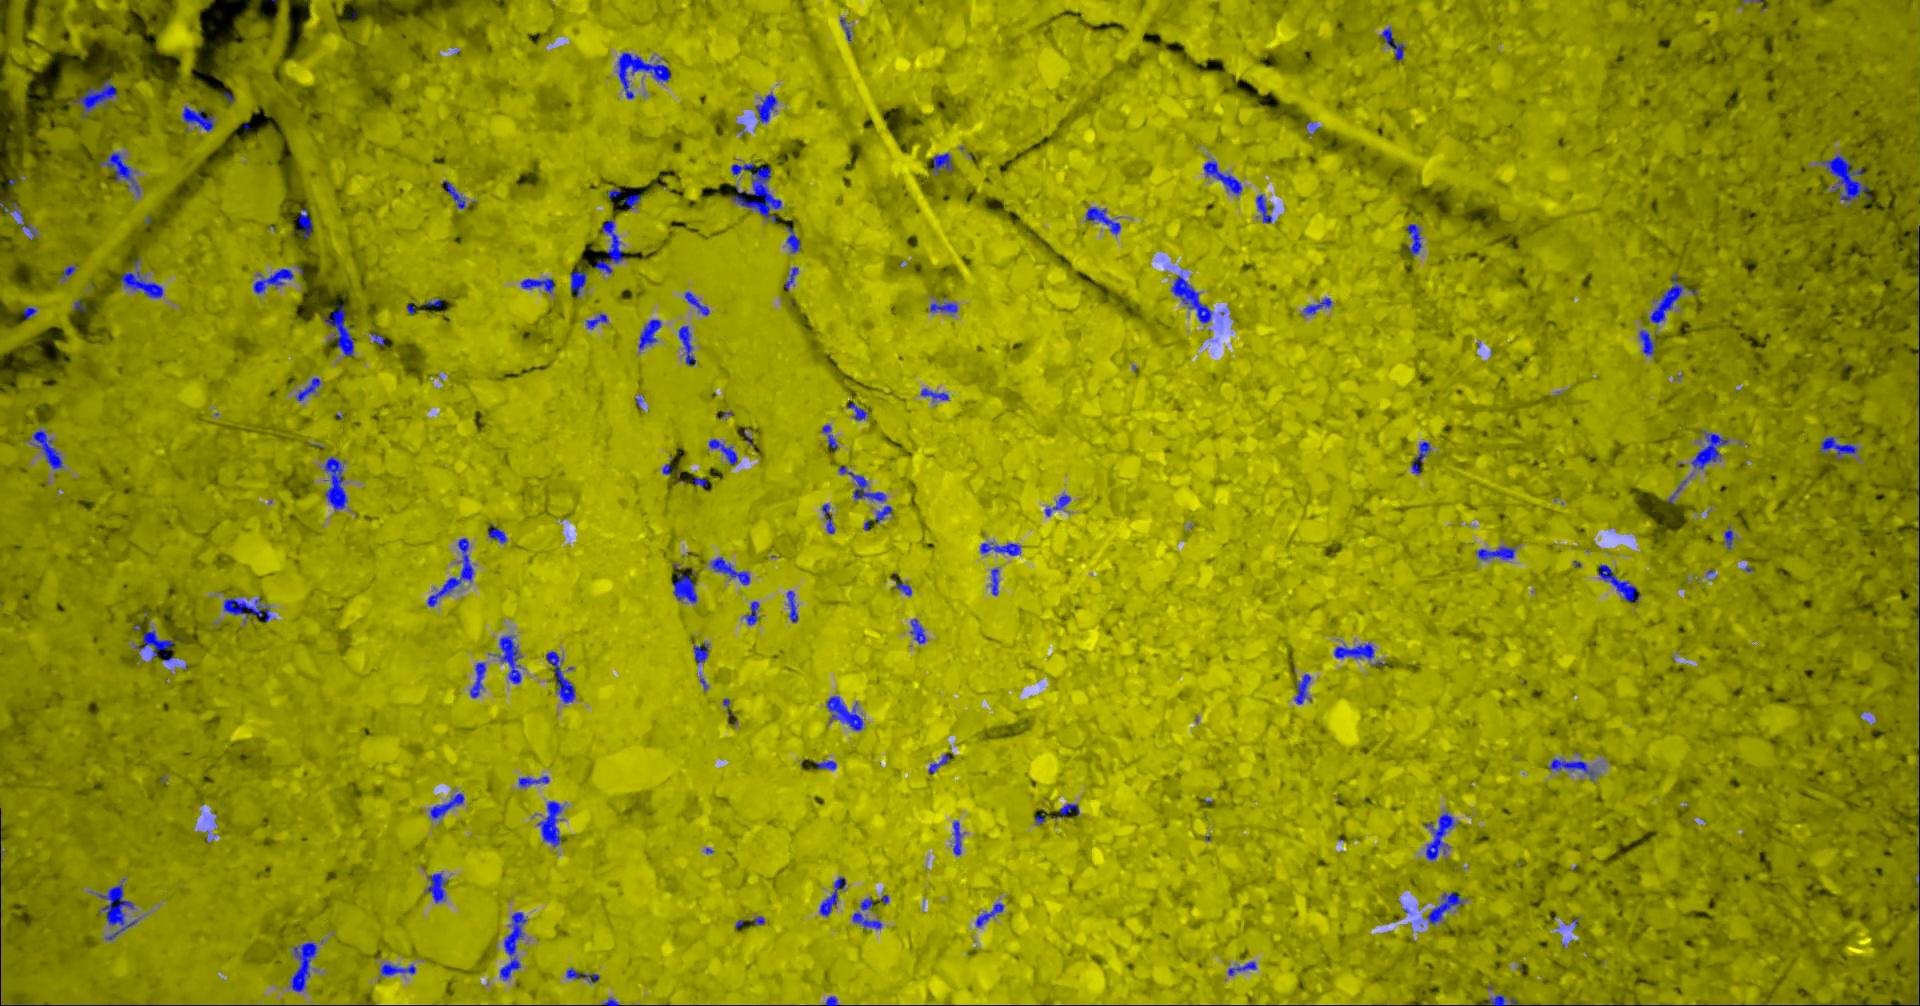ant: (425, 537, 472, 606), (616, 52, 670, 98), (1820, 154, 1870, 201), (97, 882, 137, 940), (1171, 274, 1211, 323), (1647, 274, 1684, 324), (499, 911, 524, 981), (98, 152, 138, 196), (71, 79, 116, 118), (838, 465, 885, 500), (1597, 563, 1639, 602), (594, 217, 623, 273), (323, 304, 353, 354), (545, 652, 574, 702), (1423, 812, 1454, 860), (1691, 431, 1728, 467), (290, 941, 316, 991), (323, 456, 347, 511), (825, 695, 862, 730), (1203, 161, 1241, 194), (1427, 890, 1464, 923), (30, 431, 62, 469), (135, 630, 174, 661), (223, 597, 270, 622), (537, 800, 563, 846), (119, 271, 163, 297), (498, 634, 521, 683), (710, 558, 749, 584), (253, 268, 293, 293), (1548, 758, 1595, 780), (819, 876, 844, 916), (1084, 206, 1120, 234), (852, 897, 881, 929), (11, 201, 36, 239), (429, 793, 463, 819), (670, 567, 696, 602), (1818, 436, 1857, 459), (182, 105, 213, 131), (1380, 27, 1404, 60), (709, 438, 737, 465), (975, 902, 1003, 927), (1333, 641, 1373, 659), (637, 319, 660, 349), (678, 325, 695, 365), (1401, 224, 1421, 255), (442, 180, 465, 208), (427, 873, 447, 903), (1411, 441, 1430, 473), (756, 93, 776, 122), (469, 662, 485, 697), (684, 291, 709, 315), (1044, 494, 1070, 516), (979, 541, 1020, 555), (565, 967, 599, 983), (295, 207, 312, 239), (296, 377, 320, 400), (378, 962, 415, 976), (521, 278, 554, 293), (1294, 673, 1310, 704), (1476, 546, 1515, 559), (1255, 194, 1272, 222), (570, 265, 585, 297), (1302, 297, 1331, 314), (927, 753, 950, 774), (931, 152, 952, 171), (891, 573, 910, 594), (1227, 962, 1256, 976), (822, 424, 837, 451), (1053, 803, 1079, 818), (1639, 329, 1655, 354), (846, 401, 866, 420), (822, 503, 834, 533), (518, 775, 549, 788), (786, 589, 797, 622), (1481, 995, 1517, 1005), (786, 226, 800, 253), (909, 619, 924, 643), (783, 265, 797, 290), (919, 387, 949, 399), (585, 312, 607, 328), (693, 641, 709, 663), (874, 506, 891, 523), (488, 525, 505, 542), (745, 600, 758, 624), (952, 821, 961, 855), (622, 193, 640, 210), (930, 302, 957, 312), (839, 17, 851, 39), (60, 264, 76, 279), (1723, 526, 1733, 549), (990, 568, 998, 594), (813, 760, 836, 768), (22, 306, 36, 319), (692, 476, 706, 486)
